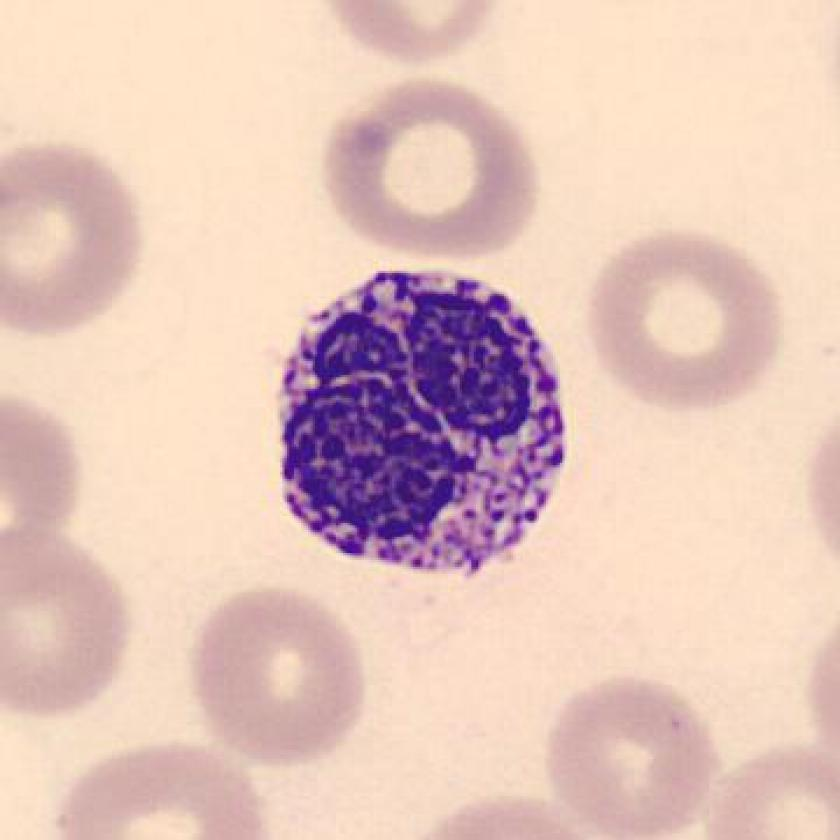basophil: (270, 255, 578, 582)
